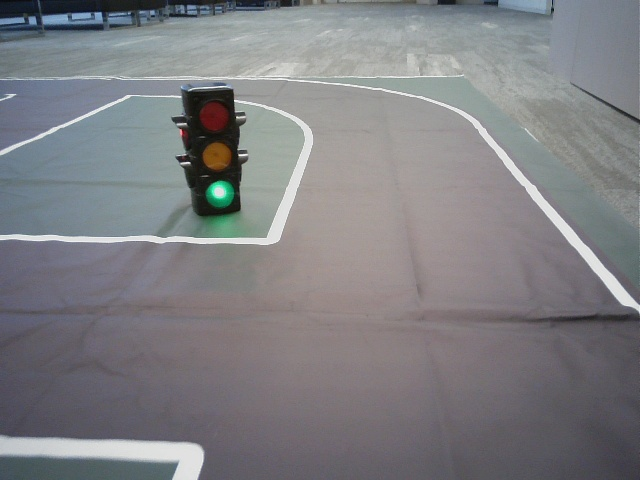green: (190, 92, 239, 210)
